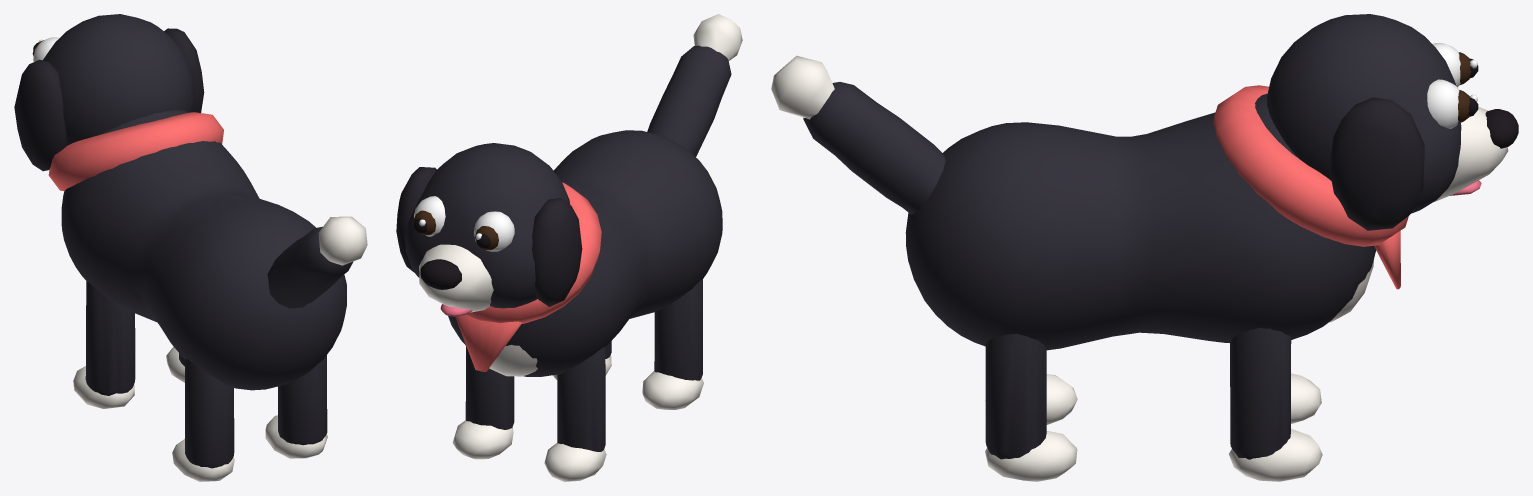
File: dog_golden.glb
The picture shows the model from 3 angles, left to right: view 1: azimuth 30°, elevation 25°; view 2: azimuth 150°, elevation 25°; view 3: azimuth 270°, elevation 25°; orthographic projection. The views are drawn at different scales.
Parts seen in each view (by area): view 1: Body, Head, LegFL, Tail, LegBL, LegBR, EarL, EarR, LegFR; view 2: Body, Head, Tail, LegFL, LegBL, LegFR, EarL, EarR; view 3: Body, Head, Tail, LegFR, EarR, LegBR, LegFL, LegBL.
Boxes of the visible parts, bbox=[...] form: Body: bbox=[48, 110, 346, 390]; Head: bbox=[32, 14, 193, 145]; LegFL: bbox=[73, 281, 135, 408]; Tail: bbox=[267, 216, 367, 308]; LegBL: bbox=[172, 358, 234, 481]; LegBR: bbox=[265, 355, 327, 458]; EarL: bbox=[14, 59, 66, 171]; EarR: bbox=[164, 28, 204, 112]; LegFR: bbox=[166, 346, 184, 382]; Body: bbox=[448, 130, 722, 376]; Head: bbox=[405, 143, 570, 316]; Tail: bbox=[647, 14, 742, 156]; LegFL: bbox=[544, 347, 606, 481]; LegBL: bbox=[642, 279, 703, 409]; LegFR: bbox=[452, 346, 514, 459]; EarL: bbox=[532, 198, 582, 306]; EarR: bbox=[396, 167, 436, 272]; Body: bbox=[905, 85, 1408, 350]; Head: bbox=[1266, 14, 1518, 213]; Tail: bbox=[771, 55, 945, 214]; LegFR: bbox=[1229, 328, 1322, 481]; EarR: bbox=[1329, 97, 1424, 230]; LegBR: bbox=[985, 333, 1077, 481]; LegFL: bbox=[1230, 340, 1321, 423]; LegBL: bbox=[985, 374, 1077, 424].
Size of the model in its own units: 0.4829 by 0.9248 by 1.47.
